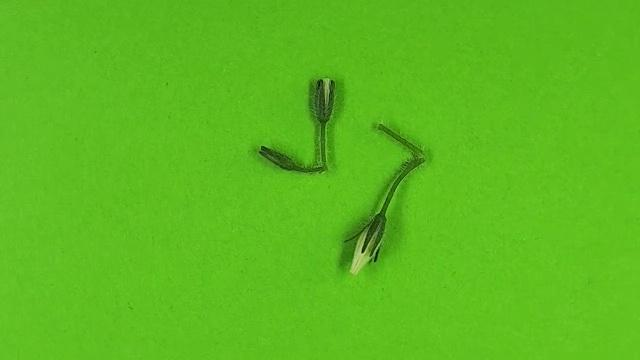Flower Bud: (348, 213, 386, 275), (257, 146, 305, 172), (312, 77, 335, 123)
